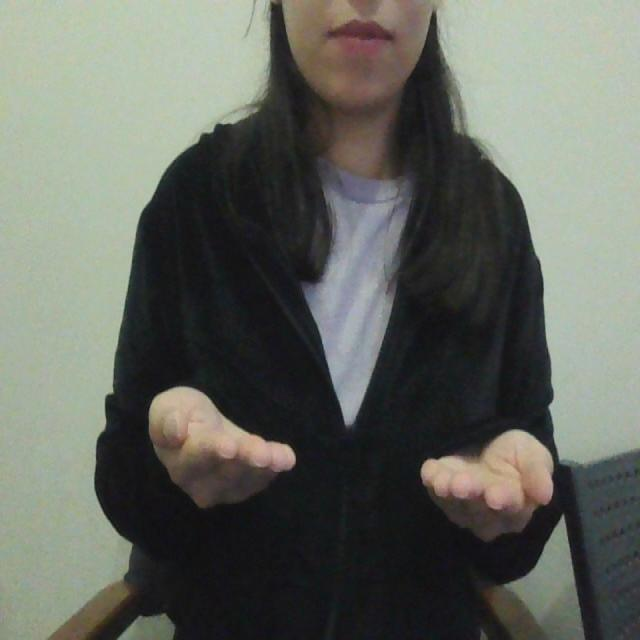Evet: (143, 378, 561, 548)
